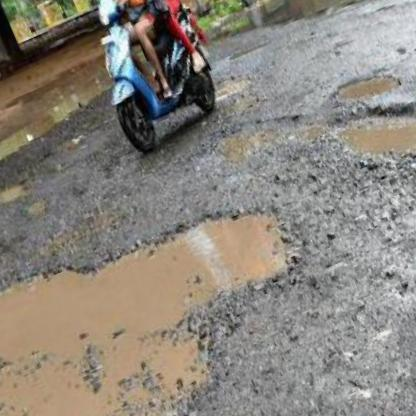pothole: (0, 202, 302, 416), (323, 52, 416, 220), (326, 58, 402, 116)
